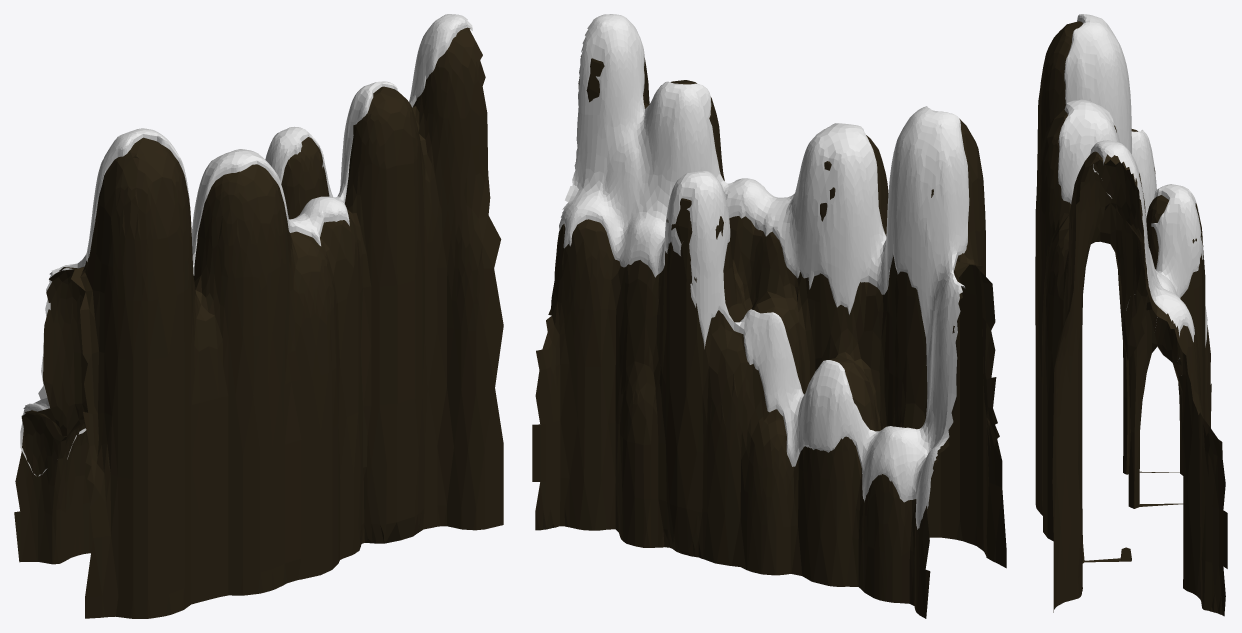
Rendered from Mtn_Wall_W1_M.fbx.
The picture shows the model from 3 angles, left to right: view 1: azimuth 30°, elevation 25°; view 2: azimuth 150°, elevation 25°; view 3: azimuth 270°, elevation 25°; orthographic projection. The views are drawn at different scales.
Visible parts, largest first — view 1: Mtn_Wall_W1_M; view 2: Mtn_Wall_W1_M; view 3: Mtn_Wall_W1_M.
Boxes of the visible parts, x1=… form: Mtn_Wall_W1_M: x1=14, y1=14, x2=503, y2=618; Mtn_Wall_W1_M: x1=532, y1=14, x2=1006, y2=618; Mtn_Wall_W1_M: x1=1035, y1=14, x2=1227, y2=616.
Bounding box in the file's own units: 23934 × 27369 × 10237.
